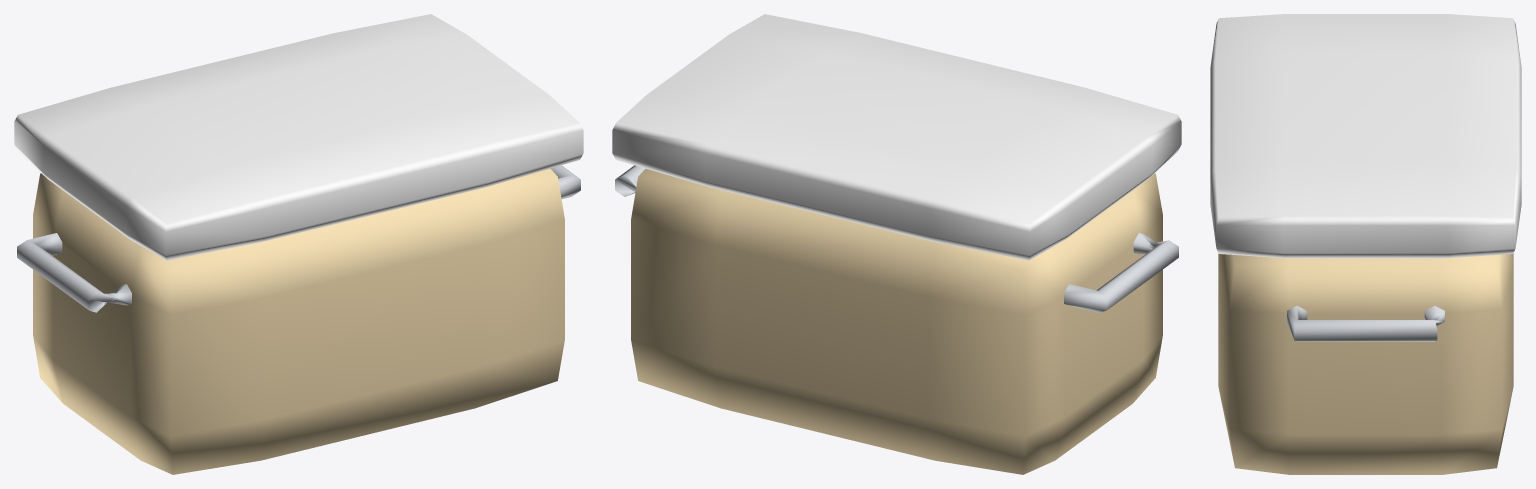
File: PrimeCutCooler.glb
The picture shows the model from 3 angles, left to right: view 1: azimuth 30°, elevation 25°; view 2: azimuth 150°, elevation 25°; view 3: azimuth 270°, elevation 25°; orthographic projection.
Visible parts, largest first — view 1: Body, Lid, Steel; view 2: Body, Lid, Steel; view 3: Lid, Body, Steel.
Part boxes in pixels (x1,y1,x2,y2): Body: [33, 168, 564, 474]; Lid: [14, 14, 583, 260]; Steel: [17, 165, 580, 312]; Body: [631, 168, 1162, 474]; Lid: [612, 14, 1181, 260]; Steel: [615, 165, 1178, 312]; Lid: [1210, 14, 1521, 258]; Body: [1218, 253, 1513, 474]; Steel: [1287, 305, 1444, 341].
Bounding box in the file's own units: 5.7 × 3.16 × 3.16.
